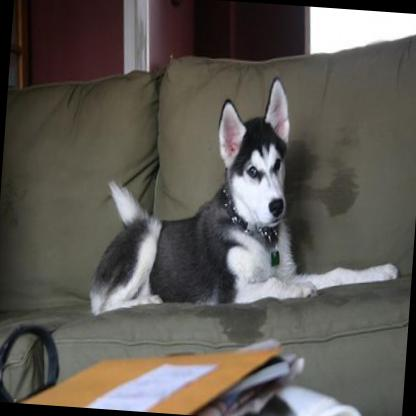Siberian_husky: (86, 63, 411, 333)
